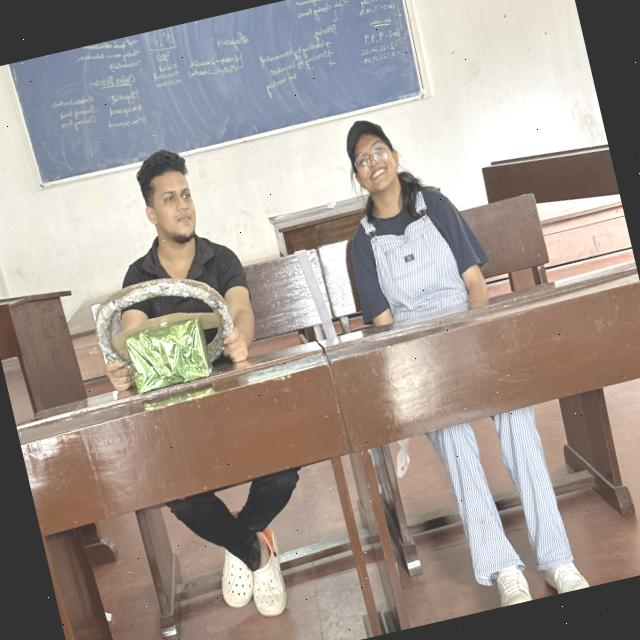no-seatbelt: (319, 175, 506, 332), (97, 230, 265, 377)
